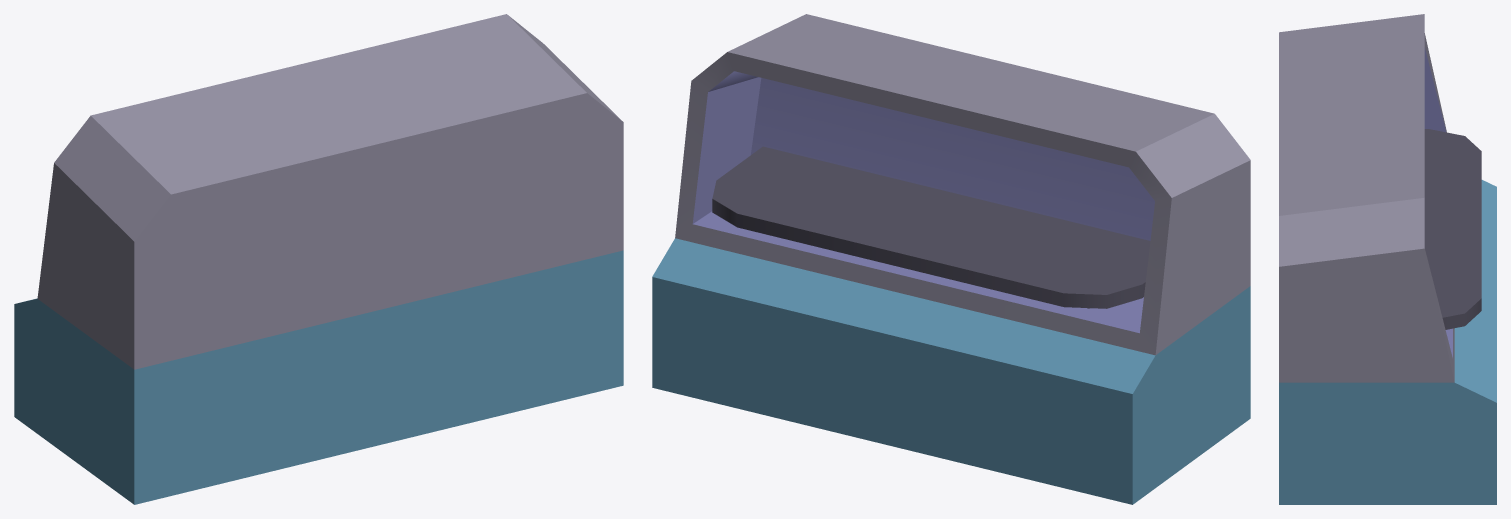
File: Shelf1Cooled.fbx
3 renders of one model, left to right at view 1: azimuth 30°, elevation 25°; view 2: azimuth 150°, elevation 25°; view 3: azimuth 270°, elevation 25°, orthographic. The views are drawn at different scales.
Parts seen in each view (by area): view 1: Shelf1Cooled; view 2: Shelf1Cooled; view 3: Shelf1Cooled.
Boxes of the visible parts, left/top/right/bottom form: Shelf1Cooled: left=14, top=14, right=623, bottom=504; Shelf1Cooled: left=652, top=14, right=1250, bottom=504; Shelf1Cooled: left=1279, top=14, right=1496, bottom=504.
Bounding box in the file's own units: 200 × 126 × 85.17.
